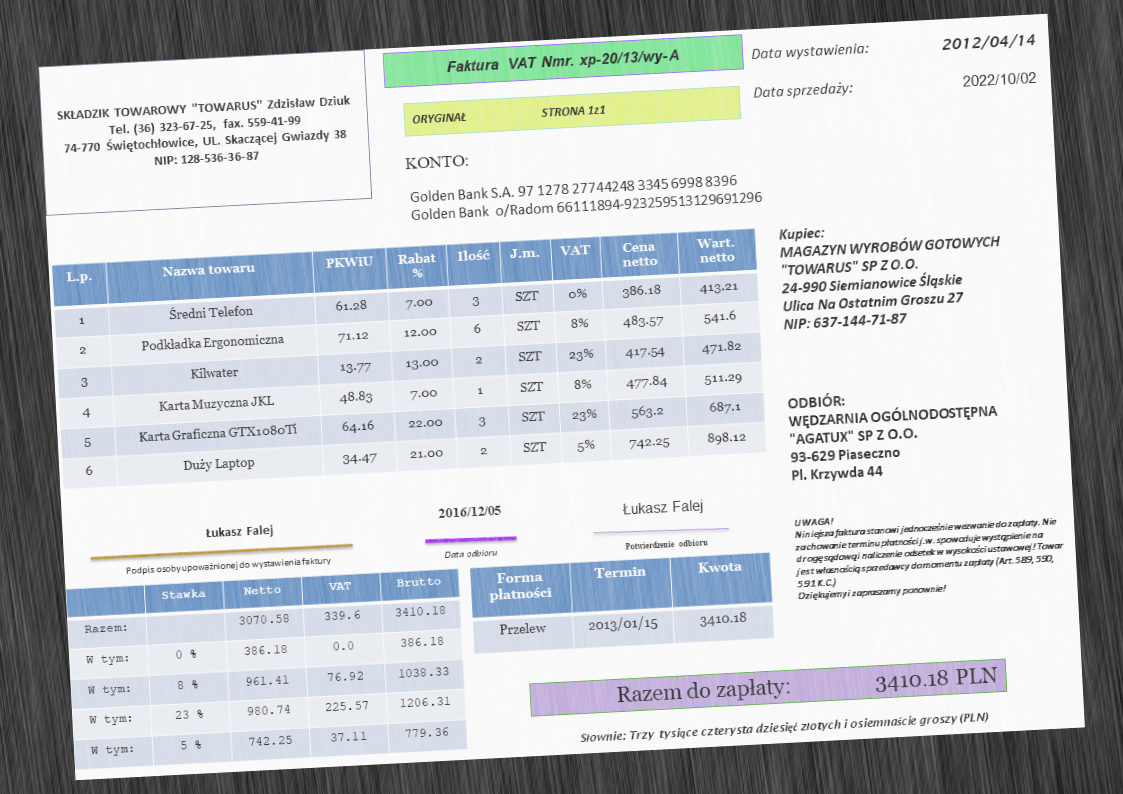Table: (50, 227, 768, 491), (66, 569, 468, 769), (468, 550, 777, 655)
TextBox: (792, 503, 1068, 602), (777, 214, 1007, 331), (55, 92, 357, 174), (786, 382, 1001, 484), (408, 170, 766, 223), (615, 664, 1000, 707), (579, 709, 993, 745), (442, 45, 682, 78), (123, 553, 333, 579), (409, 102, 608, 126), (750, 38, 871, 63), (752, 79, 856, 102), (939, 30, 1037, 52), (620, 497, 704, 520), (960, 69, 1039, 89), (435, 501, 503, 523), (203, 522, 276, 542), (404, 151, 470, 171), (624, 536, 709, 551), (442, 545, 499, 562)
